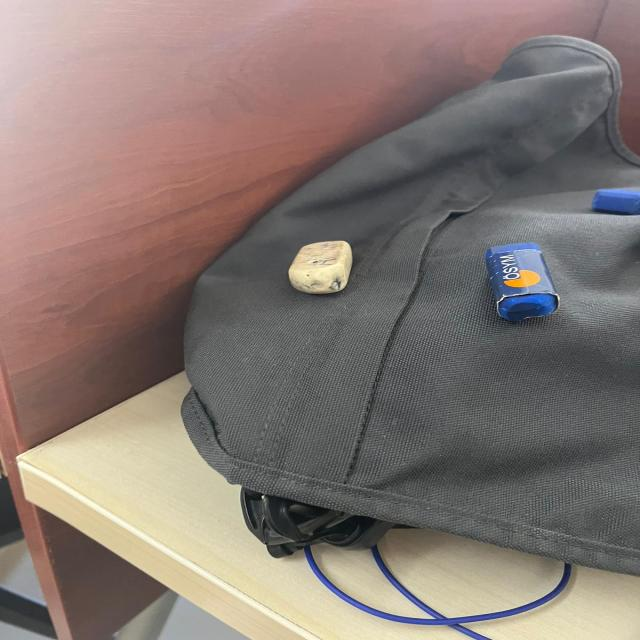eraser: (476, 235, 566, 325), (282, 229, 366, 308), (582, 178, 640, 219)
